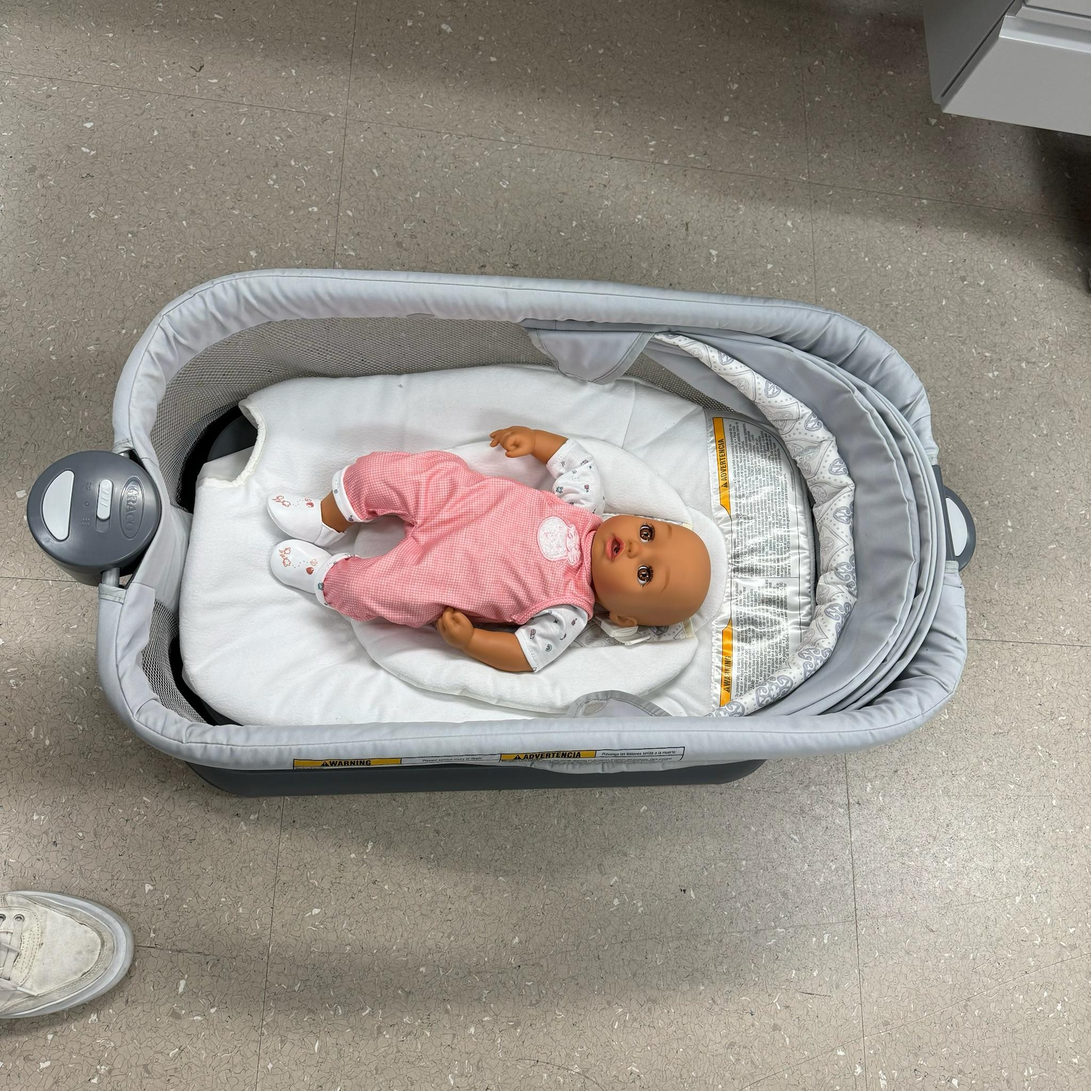baby: (264, 416, 728, 678)
